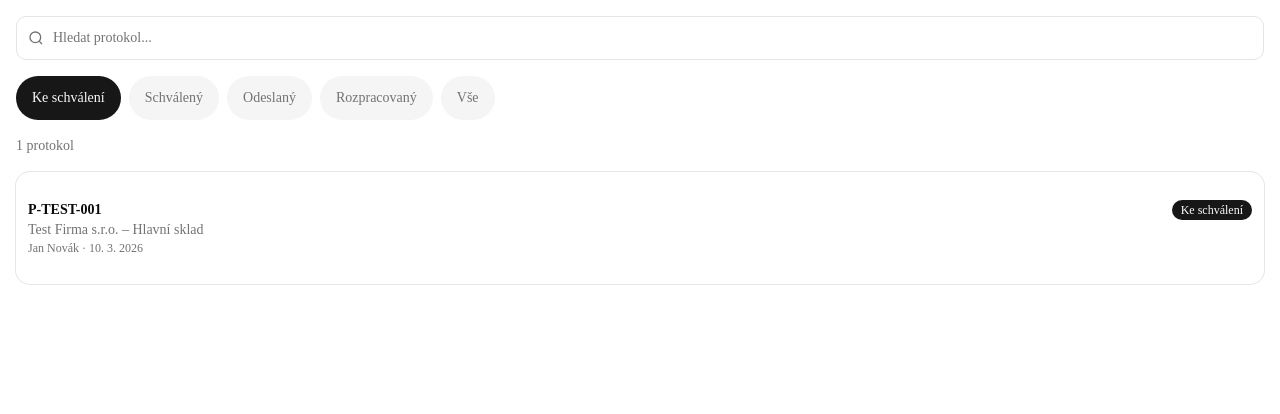
Scenario: ProtokolyList › filtruje podle statusu
expect the text "P-TEST-001" is shown: met, box [28,202,101,217]
expect the text "P-TEST-002" is not shown: met
Click "V\u0161e" filter
Click the button "Vše". click: (468, 98)
box: [441,76,495,120]
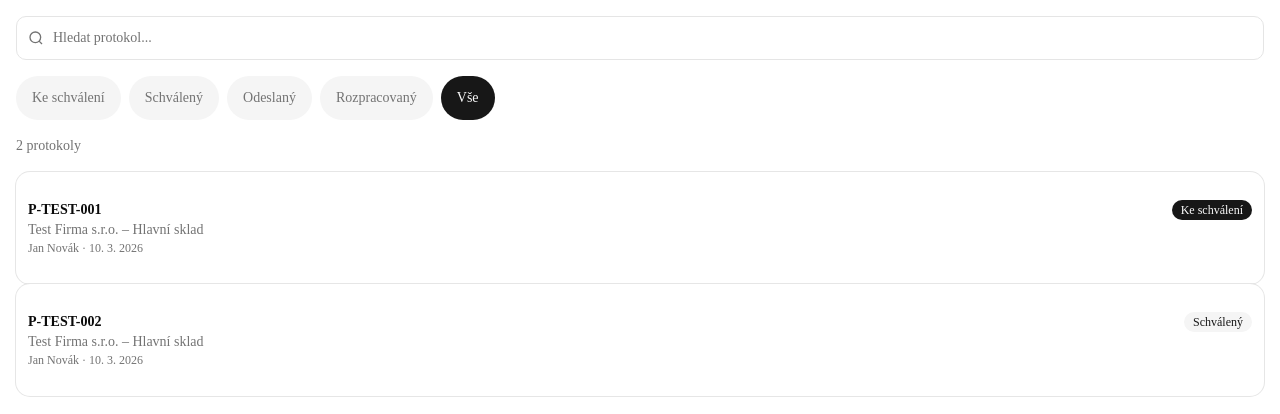
expect the text "P-TEST-001" is shown: met, box [28,202,101,217]
expect the text "P-TEST-002" is shown: met, box [28,314,101,329]
Click "Schv\u00e1len\u00fd" filter chip (badge also has this text)
Click the button "Schválený". click: (174, 98)
box: [129,76,219,120]
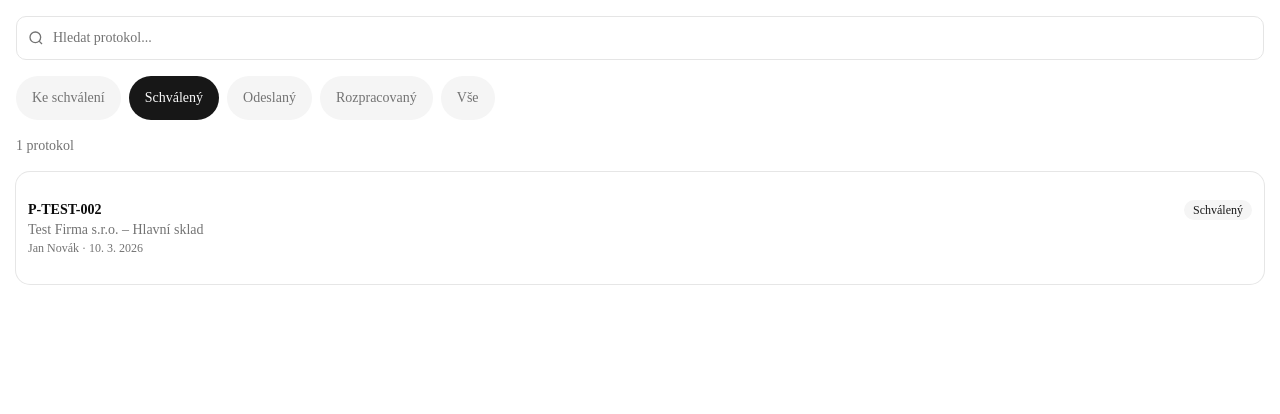
expect the text "P-TEST-002" is shown: met, box [28,202,101,217]
expect the link "P-TEST-001" is gone: met
